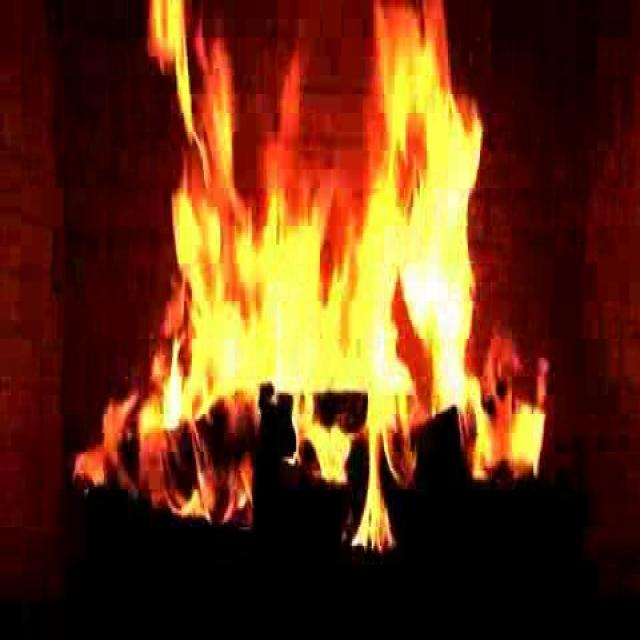fire: (141, 22, 487, 486)
